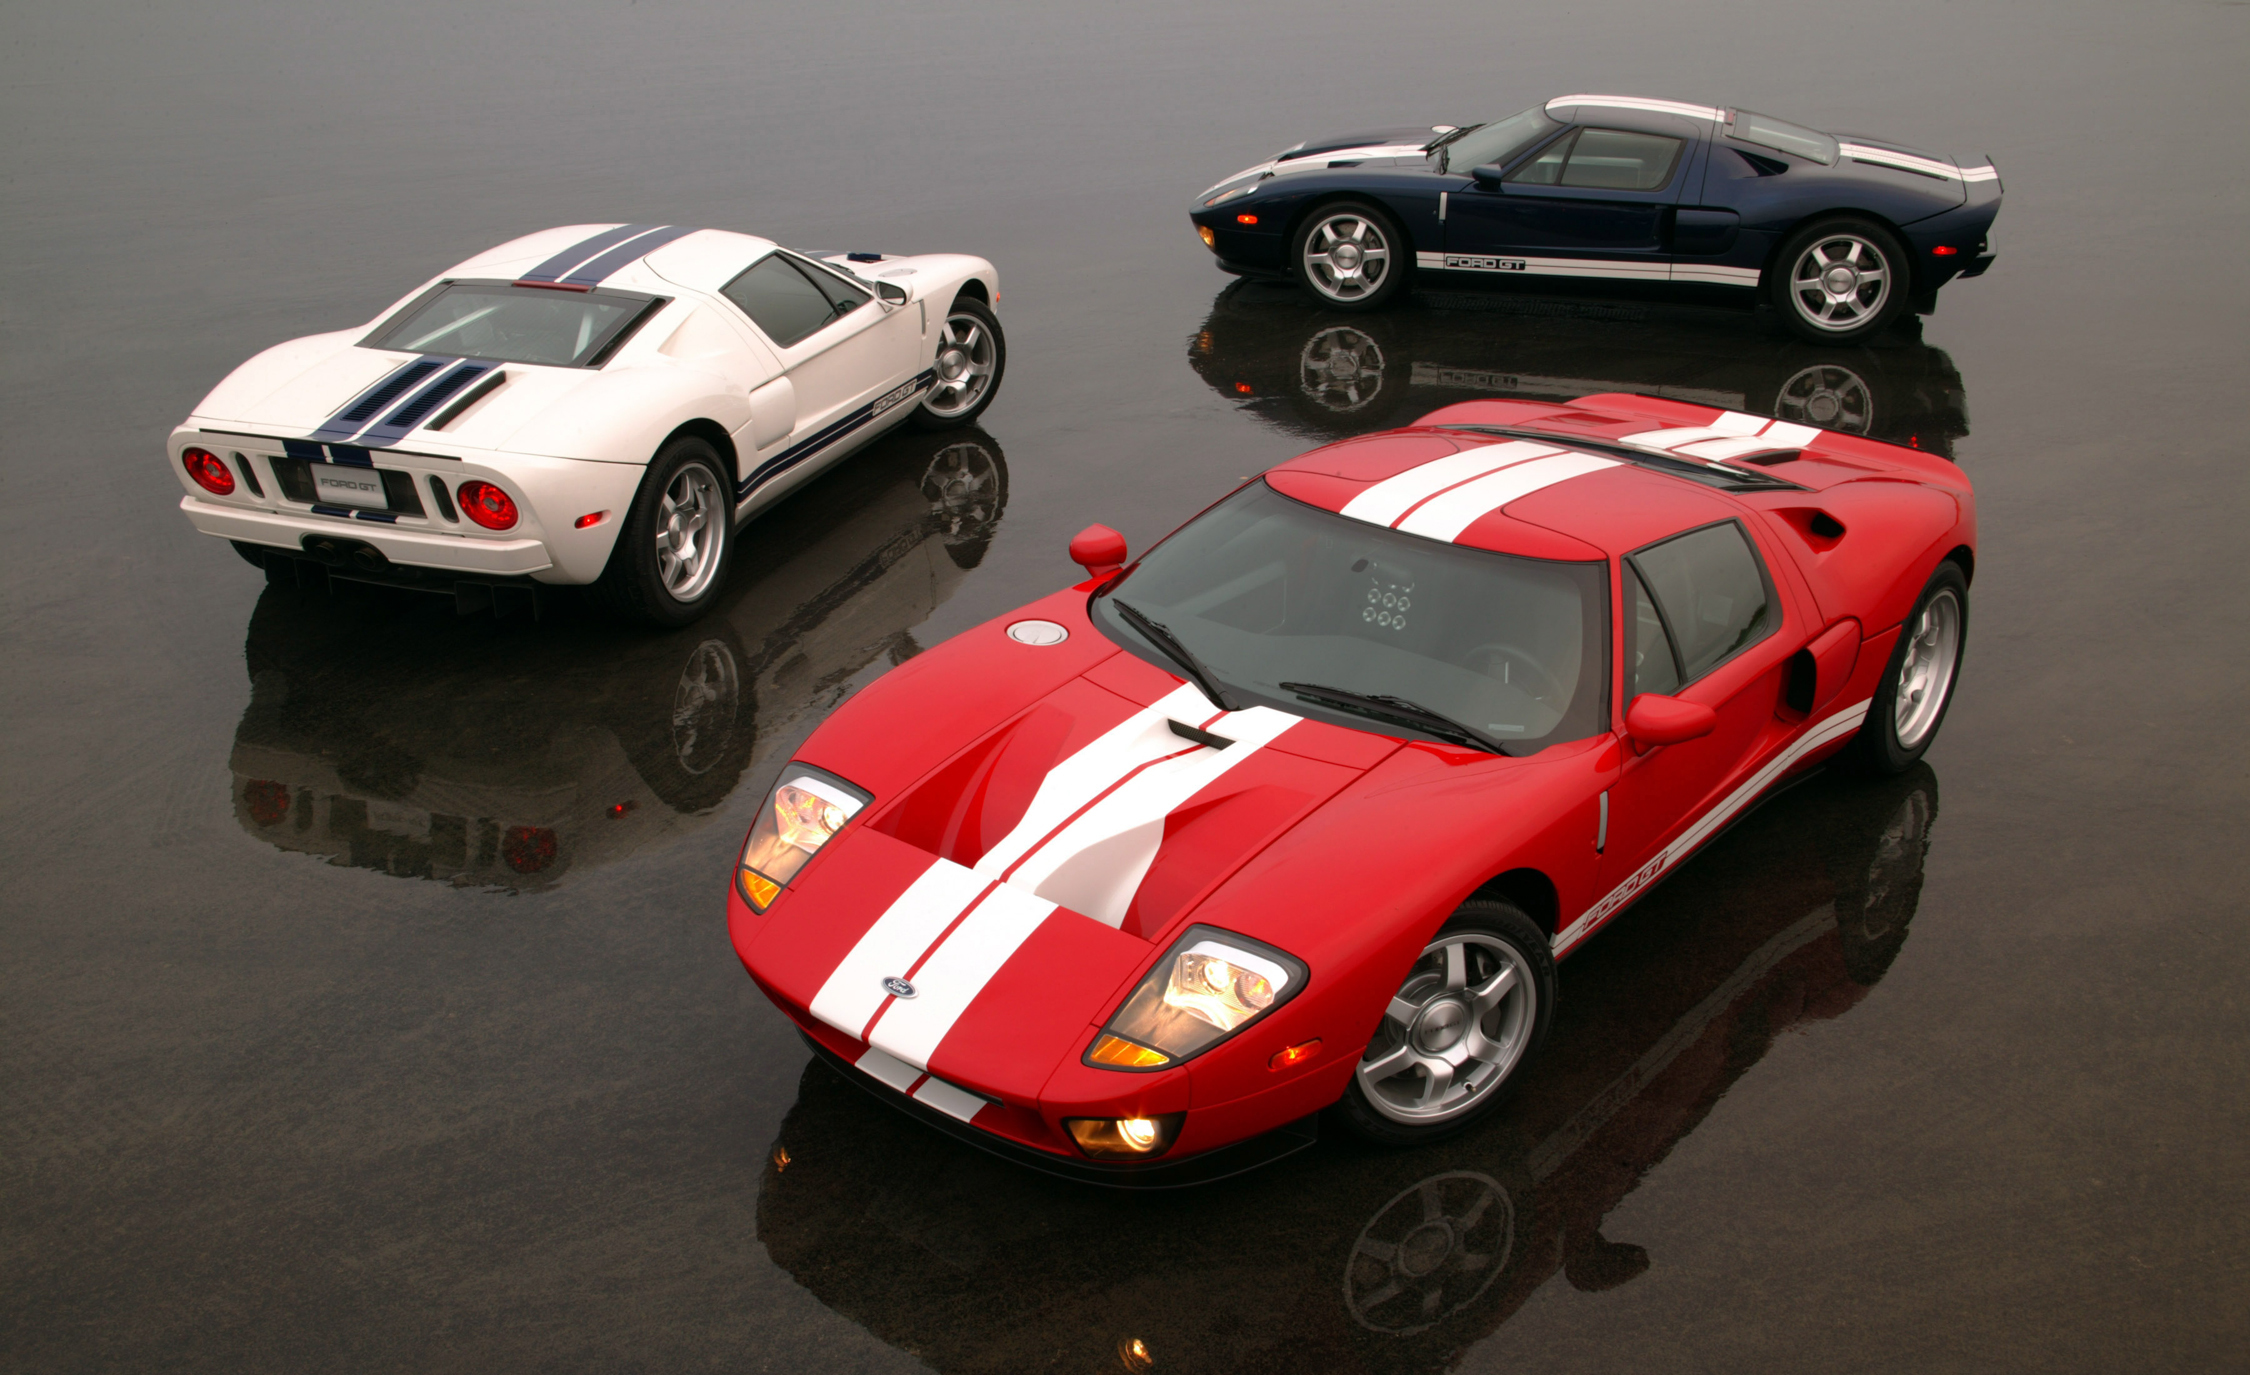headlight: (1062, 909, 1316, 1079), (715, 753, 871, 912), (448, 451, 524, 535), (162, 434, 247, 504), (1181, 173, 1278, 218)
wheel: (1348, 855, 1565, 1129), (628, 389, 754, 615), (1879, 545, 1972, 771), (1771, 212, 1921, 341), (1284, 198, 1413, 302), (919, 281, 1001, 424)
